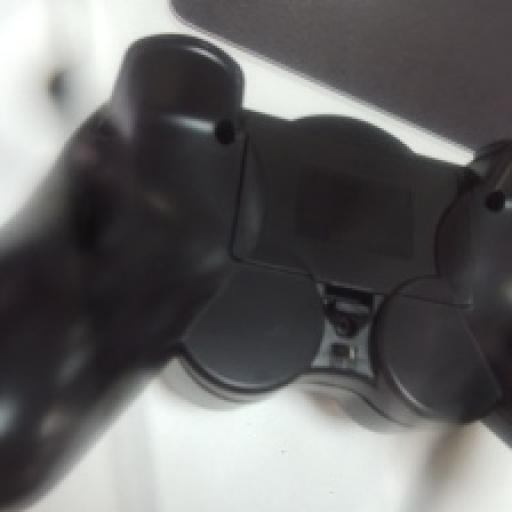game pad: (0, 34, 510, 507)
